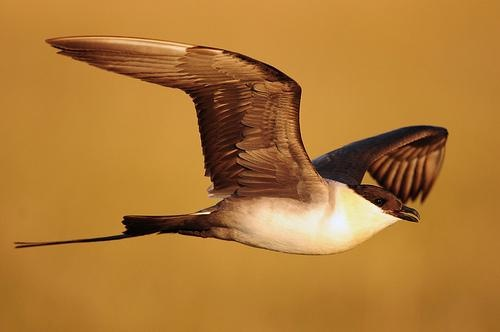bird: (14, 32, 454, 261)
